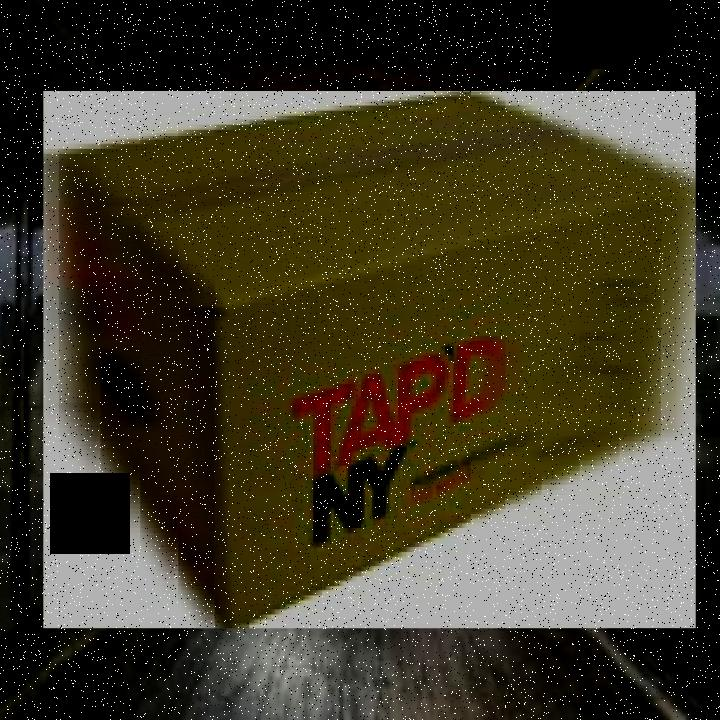box: (34, 81, 707, 639)
